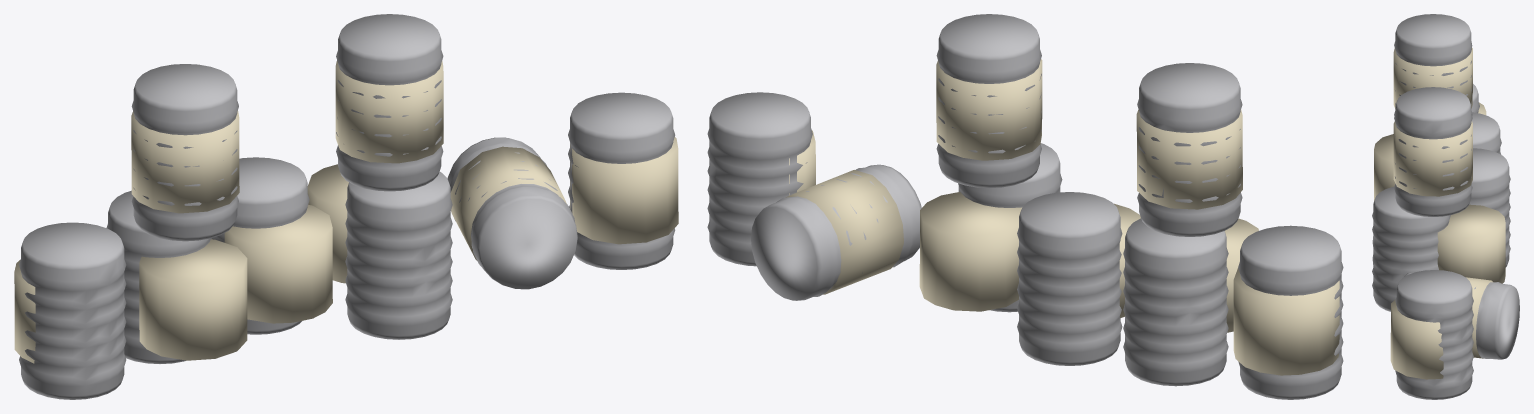
File: pantry_tins.glb
3 views of the same model, side by side, from view 1: azimuth 30°, elevation 25°; view 2: azimuth 150°, elevation 25°; view 3: azimuth 270°, elevation 25° (orthographic). The views are drawn at different scales.
Visible parts, largest first — view 1: pantry_tins; view 2: pantry_tins; view 3: pantry_tins.
Boxes of the visible parts, box(x1,y1,x2,y2) form: pantry_tins: box(14, 14, 678, 399); pantry_tins: box(707, 14, 1343, 399); pantry_tins: box(1372, 14, 1519, 399).
Bounding box in the file's own units: 0.5625 × 0.2298 × 0.154.
